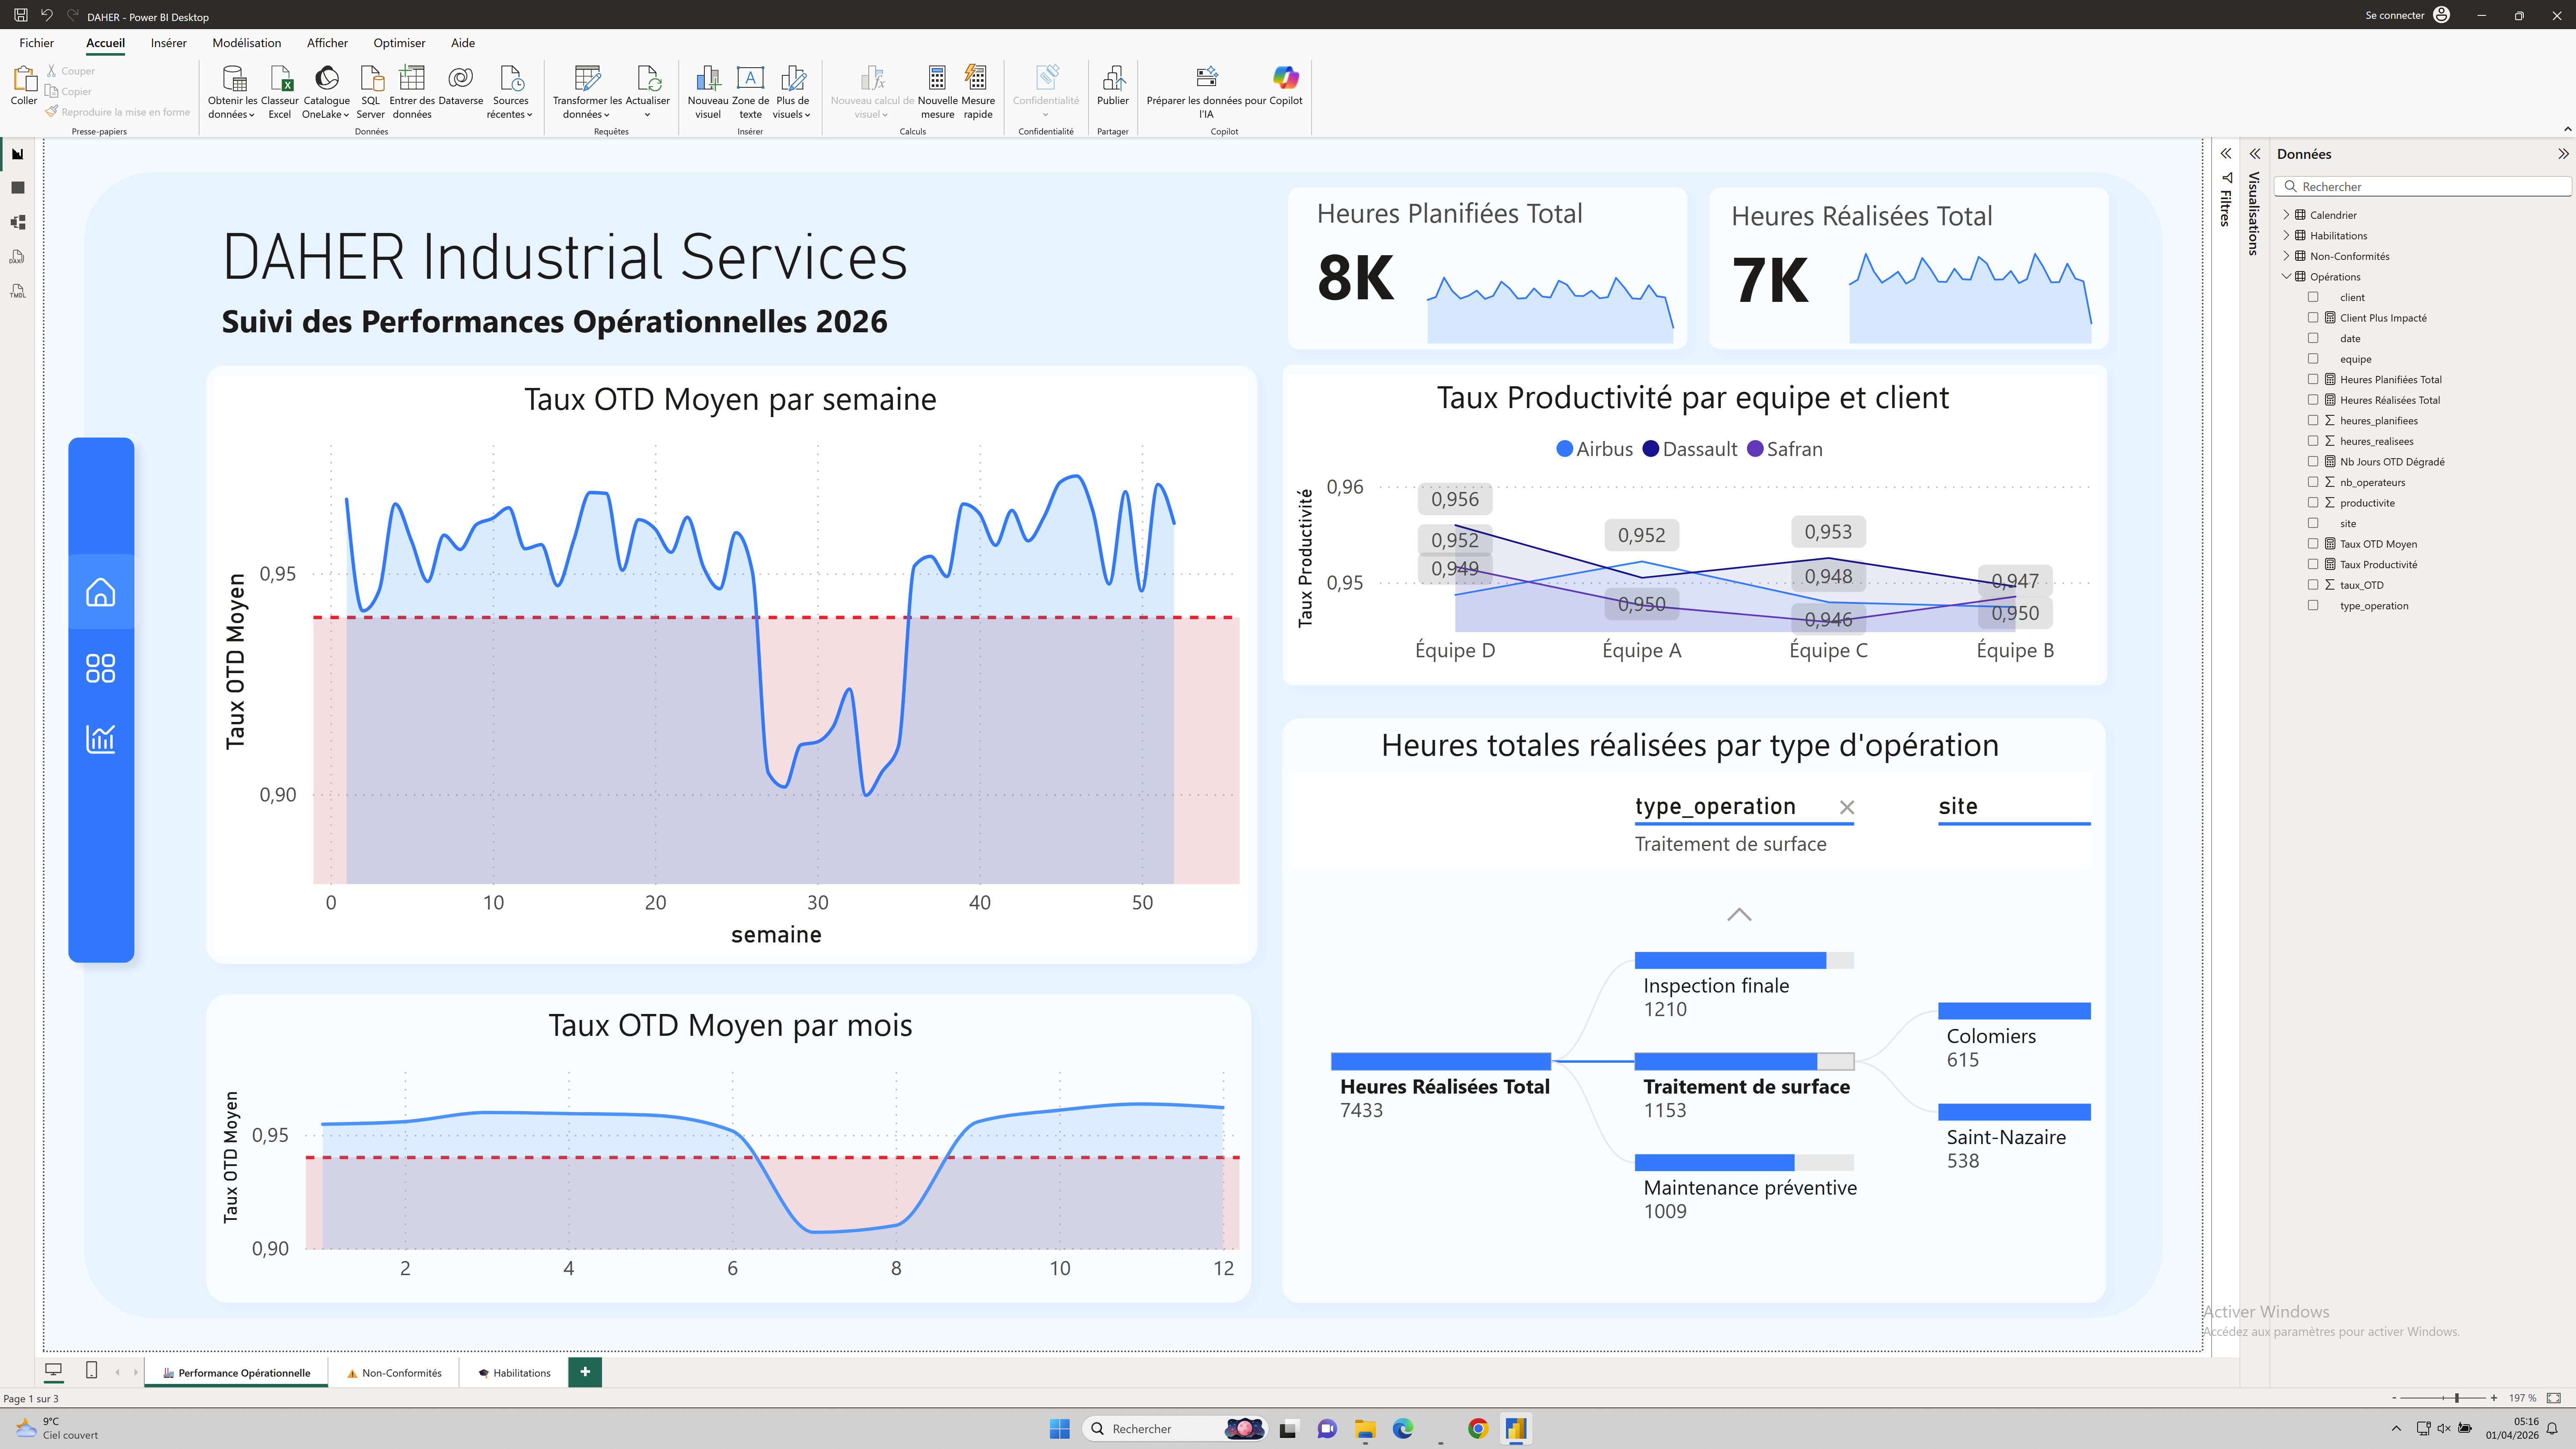

This screenshot's page, from the dashboard's own definition file:
{"tool":"powerbi","page":{"name":"🏭 Performance Opérationnelle","canvas":[1280,720],"ordinal":0},"visuals":[{"type":"shape","box":[23.3,20.9,1233.4,679.9],"z":0},{"type":"shape","box":[5,169.2,57.2,329.8],"z":1000},{"type":"shape","box":[10.8,247.7,46.2,44.6],"z":2000},{"type":"group","id":"g1","title":"Group 1","box":[20,249,27.2,129.7],"z":3000},{"type":"image","box":[20,249,27.1,42.1],"z":3000,"group":"g1"},{"type":"shape","box":[87.1,126.4,641.8,373.1],"z":4000},{"type":"image","box":[20,294.3,27.2,42.2],"z":4000,"group":"g1"},{"type":"shape","box":[725.7,126,507.3,208.3],"z":5000},{"type":"image","box":[20,336.5,27.1,42.2],"z":5000,"group":"g1"},{"type":"shape","box":[725,336,507,365],"z":6000},{"type":"shape","box":[87.1,499.5,638.2,201.3],"z":7000},{"type":"lineChart","fields":{"Category":["Calendrier.semaine"],"Y":["Opérations.Taux OTD Moyen"]},"box":[100,142,614,344],"z":8000},{"type":"lineChart","fields":{"Category":["Opérations.equipe"],"Y":["Opérations.Taux Productivité"],"Series":["Opérations.client"]},"box":[738,141,481,182],"z":9000},{"type":"lineChart","title":"Taux OTD Moyen par mois","fields":{"Y":["Opérations.Taux OTD Moyen"],"Category":["Calendrier.mois_num"]},"box":[100,513,614,176],"z":10000},{"type":"decompositionTreeVisual","title":"Heures totales réalisées par type d''opération","fields":{"ExplainBy":["Opérations.type_operation","Opérations.site"],"Analyze":["Opérations.Heures Réalisées Total"]},"box":[733.8,346.9,485.6,343.1],"z":11000},{"type":"textbox","box":[100,43,430,60],"z":12000},{"type":"shape","box":[978.8,20.6,255.3,114.1],"z":13000},{"type":"textbox","box":[100,91,605,35],"z":14000},{"type":"cardVisual","fields":{"Data":["Opérations.Heures Réalisées Total"]},"box":[983.8,15.6,235,110.6],"z":15000},{"type":"lineChart","fields":{"Category":["Calendrier.date.Variation.Hiérarchie de dates.Année","Calendrier.date.Variation.Hiérarchie de dates.Trimestre","Calendrier.date.Variation.Hiérarchie de dates.Mois","Calendrier.date.Variation.Hiérarchie de dates.Jour"],"Y":["Opérations.Heures Réalisées Total"]},"box":[1051.2,51.2,221.2,76.2],"z":16000},{"type":"shape","box":[728.8,20.6,255.3,114.1],"z":17000},{"type":"cardVisual","fields":{"Data":["Opérations.Heures Planifiées Total"]},"box":[737.9,16.4,241.4,110.7],"z":18000},{"type":"lineChart","fields":{"Category":["Calendrier.date.Variation.Hiérarchie de dates.Année","Calendrier.date.Variation.Hiérarchie de dates.Trimestre","Calendrier.date.Variation.Hiérarchie de dates.Mois","Calendrier.date.Variation.Hiérarchie de dates.Jour"],"Y":["Opérations.Heures Planifiées Total"]},"box":[800.6,51.2,224.4,76.2],"z":19000}]}

Visuals, with their boxes on the page's 1280x720 design canvas (x1, y1, x2, y2). These are canvas units, not pixel positions in the 2576x1449 screenshot, which may show the page scaled, cropped or inside an application window:
shape: [left=23, top=21, right=1257, bottom=701]
shape: [left=5, top=169, right=62, bottom=499]
shape: [left=11, top=248, right=57, bottom=292]
"Group 1" group: [left=20, top=249, right=47, bottom=379]
image: [left=20, top=249, right=47, bottom=291]
shape: [left=87, top=126, right=729, bottom=500]
image: [left=20, top=294, right=47, bottom=336]
shape: [left=726, top=126, right=1233, bottom=334]
image: [left=20, top=336, right=47, bottom=379]
shape: [left=725, top=336, right=1232, bottom=701]
shape: [left=87, top=500, right=725, bottom=701]
lineChart - Calendrier.semaine x Opérations.Taux OTD Moyen: [left=100, top=142, right=714, bottom=486]
lineChart - Opérations.equipe x Opérations.Taux Productivité: [left=738, top=141, right=1219, bottom=323]
"Taux OTD Moyen par mois" lineChart: [left=100, top=513, right=714, bottom=689]
"Heures totales réalisées par type d''opération" decompositionTreeVisual: [left=734, top=347, right=1219, bottom=690]
textbox: [left=100, top=43, right=530, bottom=103]
shape: [left=979, top=21, right=1234, bottom=135]
textbox: [left=100, top=91, right=705, bottom=126]
cardVisual - Opérations.Heures Réalisées Total: [left=984, top=16, right=1219, bottom=126]
lineChart - Calendrier.date.Variation.Hiérarchie de dates.Année x Calendrier.date.Variation.Hiérarchie de dates.Trimestre: [left=1051, top=51, right=1272, bottom=127]
shape: [left=729, top=21, right=984, bottom=135]
cardVisual - Opérations.Heures Planifiées Total: [left=738, top=16, right=979, bottom=127]
lineChart - Calendrier.date.Variation.Hiérarchie de dates.Année x Calendrier.date.Variation.Hiérarchie de dates.Trimestre: [left=801, top=51, right=1025, bottom=127]
